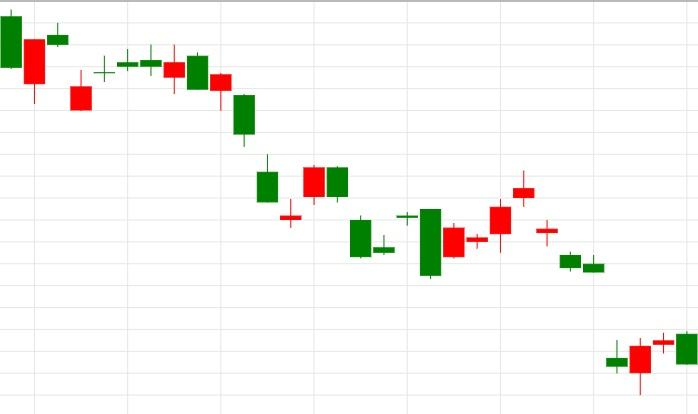bullish_engulfing_rise: (513, 169, 652, 395)
